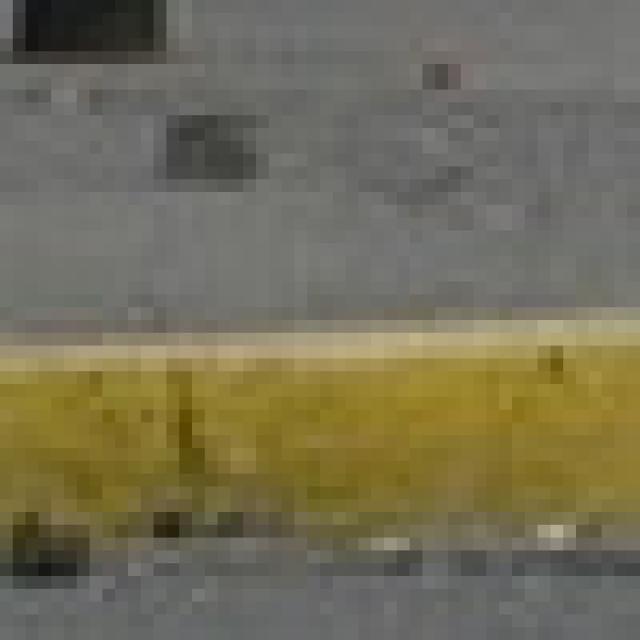no_fire: (0, 22, 640, 590)
